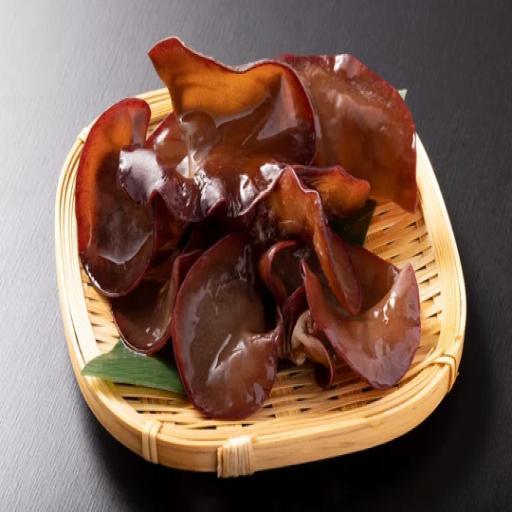Wood Ear Mushroom: (145, 38, 322, 223), (282, 39, 439, 210), (172, 225, 291, 428), (291, 224, 424, 400), (74, 96, 171, 311)
